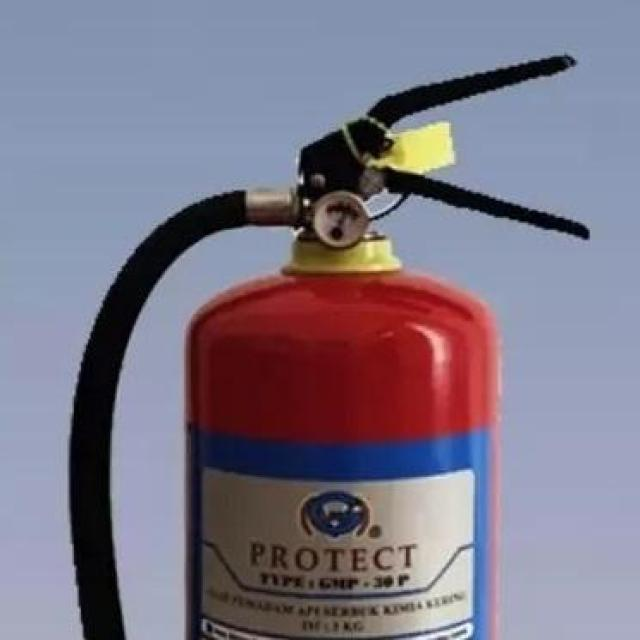fire_extinguisher: (56, 46, 601, 638)
